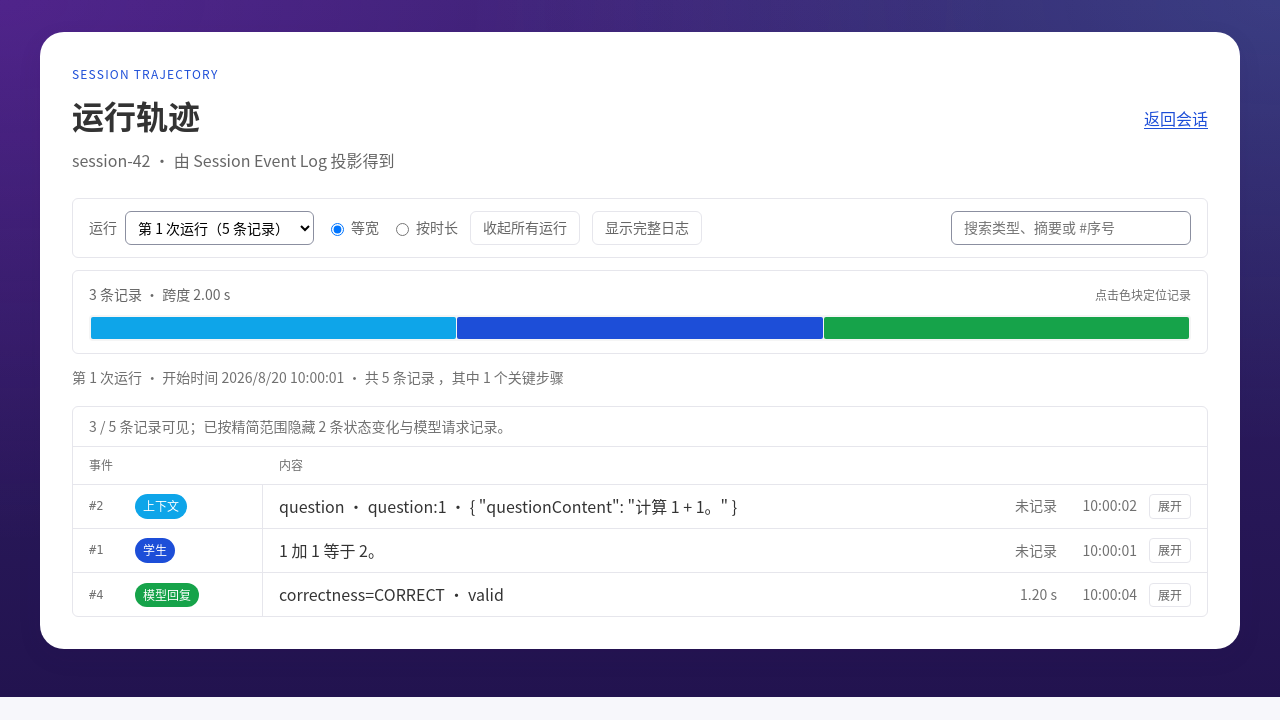
Scenario: SessionEventLogView › 默认只展示上下文、用户与助手记录，并统计被隐藏的记录数
The width and height of the screenshot is (1280, 720).
Expected: the number of elements with class "record-row" is 3, [73,485,1207,528]; [73,528,1207,572]; [73,572,1207,616]
Expected: the text "test-model · 1 条消息" is not shown
What coordinates should you click on to do the following:
click the button with class "toolbar-button" showing "显示完整日志"
I would click on:
 (647, 228)
Its box is [592,211,702,245].
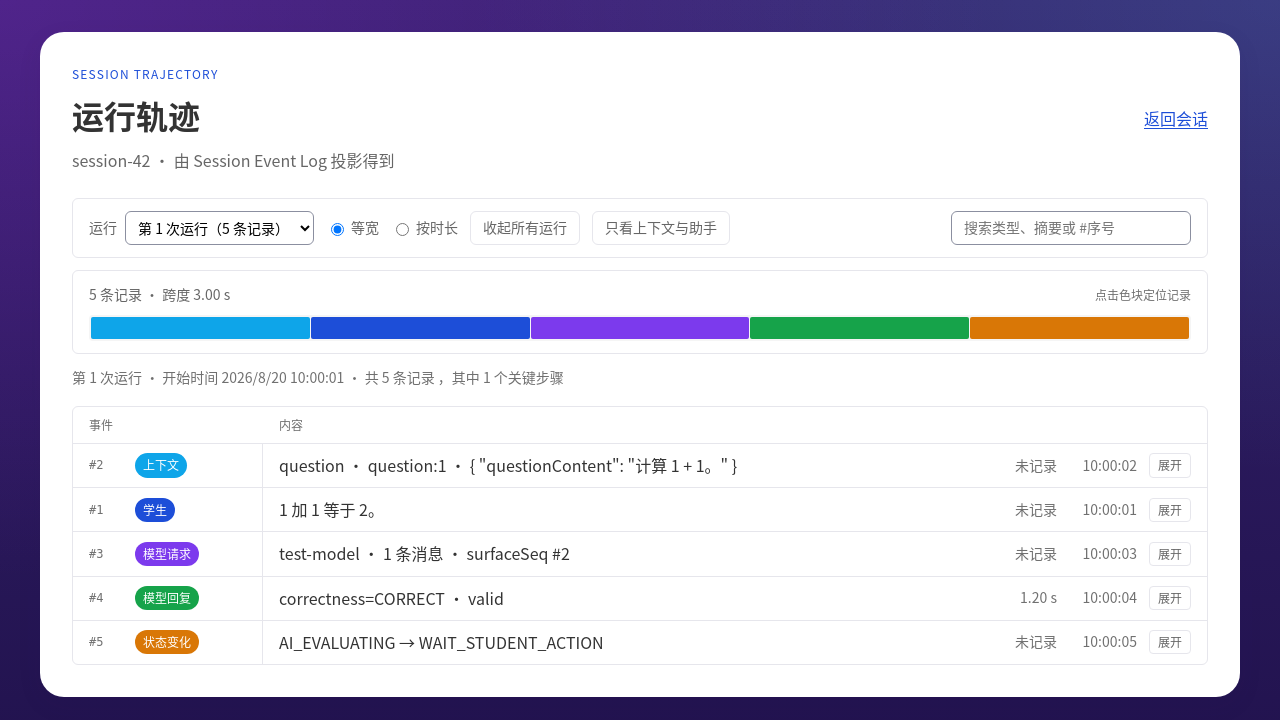
Expected: the number of elements with class "record-row" is 5, [73,444,1207,487]; [73,487,1207,531]; [73,531,1207,576]; [73,576,1207,620]; [73,620,1207,664]
Expected: the text "test-model · 1 条消息 · surfaceSeq #2" is shown, [279,541,570,565]
Expected: the text "AI_EVALUATING → WAIT_STUDENT_ACTION" is shown, [279,630,604,654]
